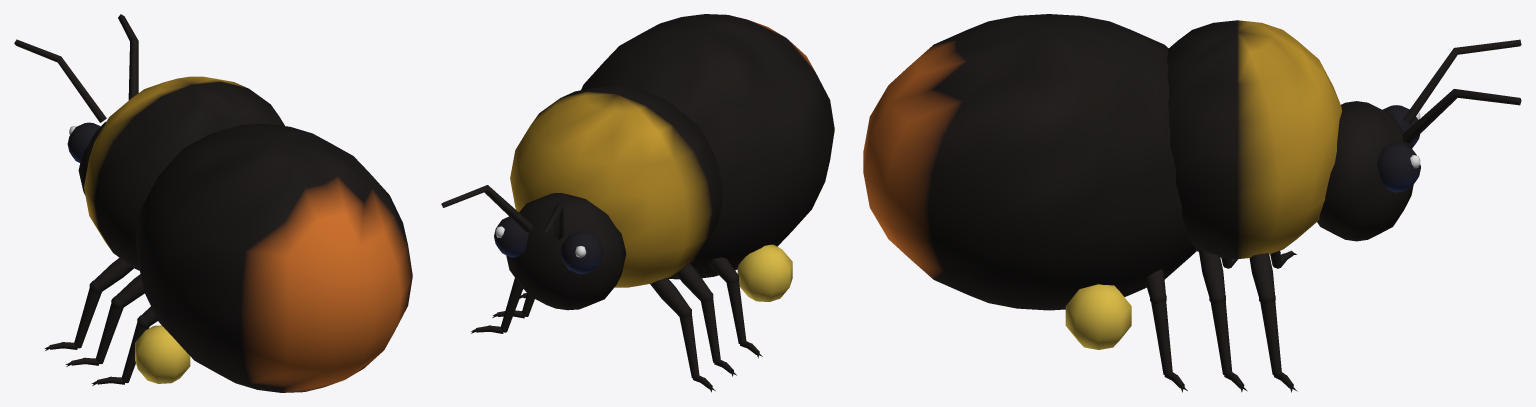
Rendered from Maruhanabachi.fbx.
3 views of the same model, side by side, from view 1: azimuth 30°, elevation 25°; view 2: azimuth 150°, elevation 25°; view 3: azimuth 270°, elevation 25° (orthographic). The views are drawn at different scales.
Visible parts, largest first — view 1: Maruhanabachi; view 2: Maruhanabachi; view 3: Maruhanabachi.
Boxes of the visible parts, box(x1,y1,x2,y2) form: Maruhanabachi: box(14, 14, 412, 392); Maruhanabachi: box(441, 14, 834, 392); Maruhanabachi: box(863, 14, 1521, 392).
Bounding box in the file's own units: 0.6658 × 0.6591 × 1.33.
